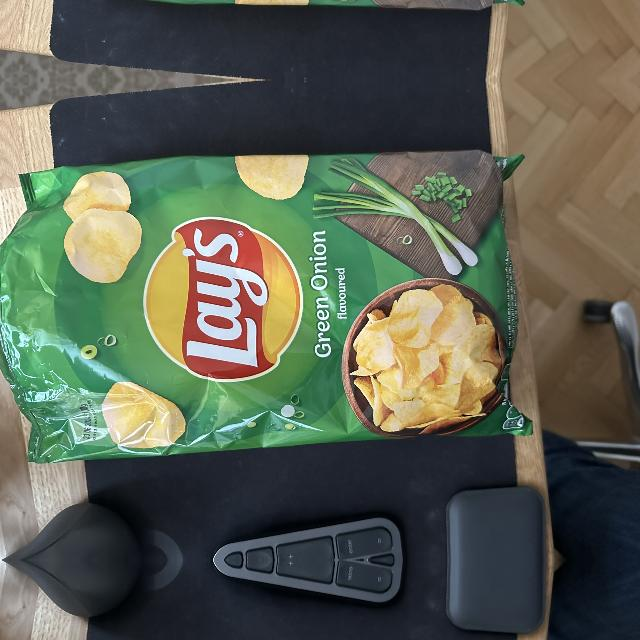lays: (144, 217, 305, 383)
